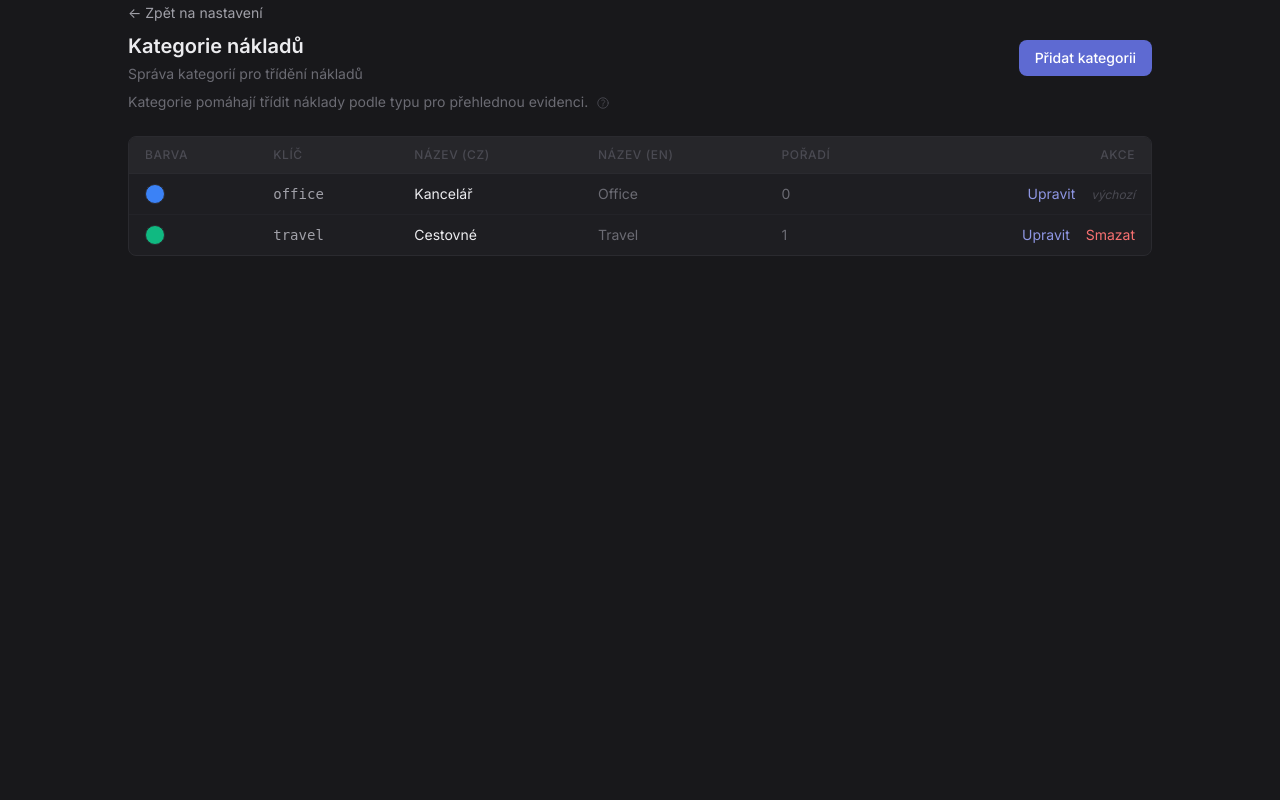
Scenario: Categories Settings Page › add button shows create form
Check: the text "office" is shown, box [257,174,398,214]
Click the button "Přidat kategorii". click: (1085, 58)
box: [1019,40,1152,76]
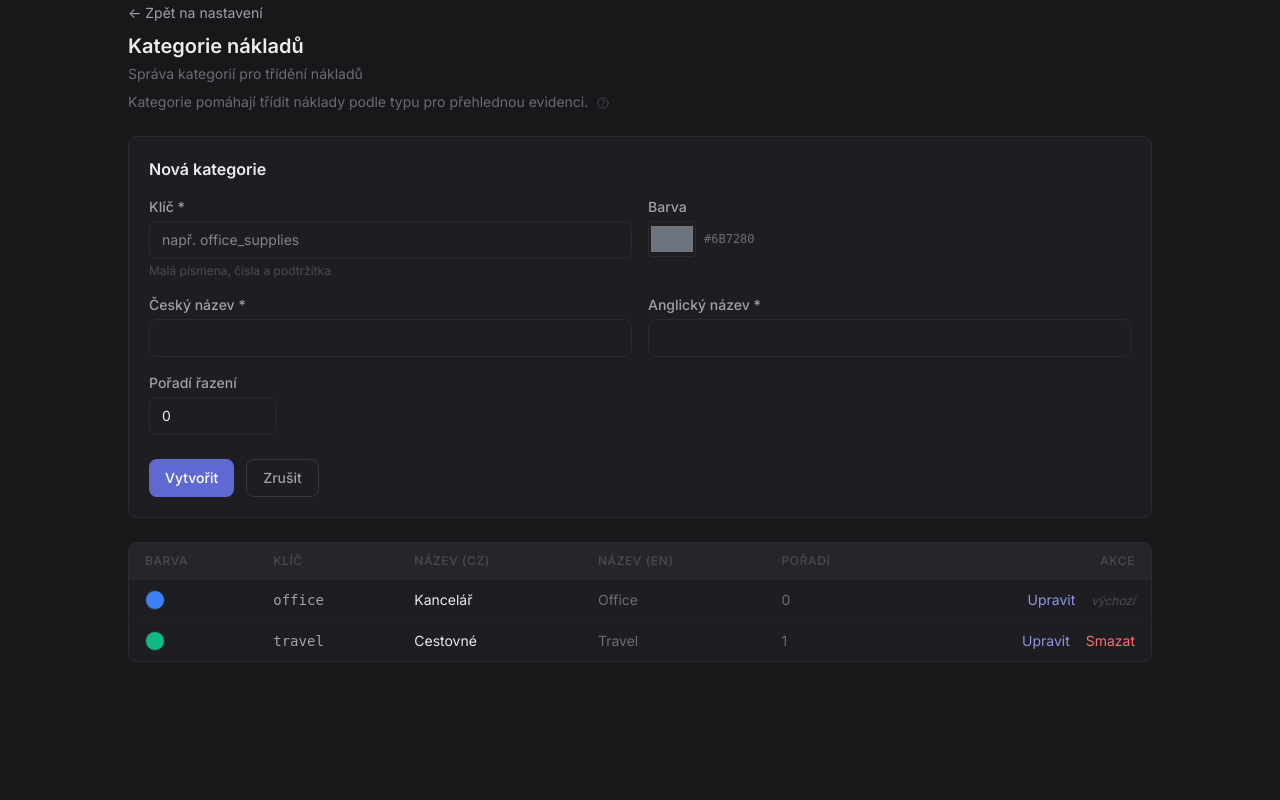
Check: the heading "Nová kategorie" is shown, box [149,159,266,179]
Check: the field with id "cat-key" is shown, box [149,221,632,259]
